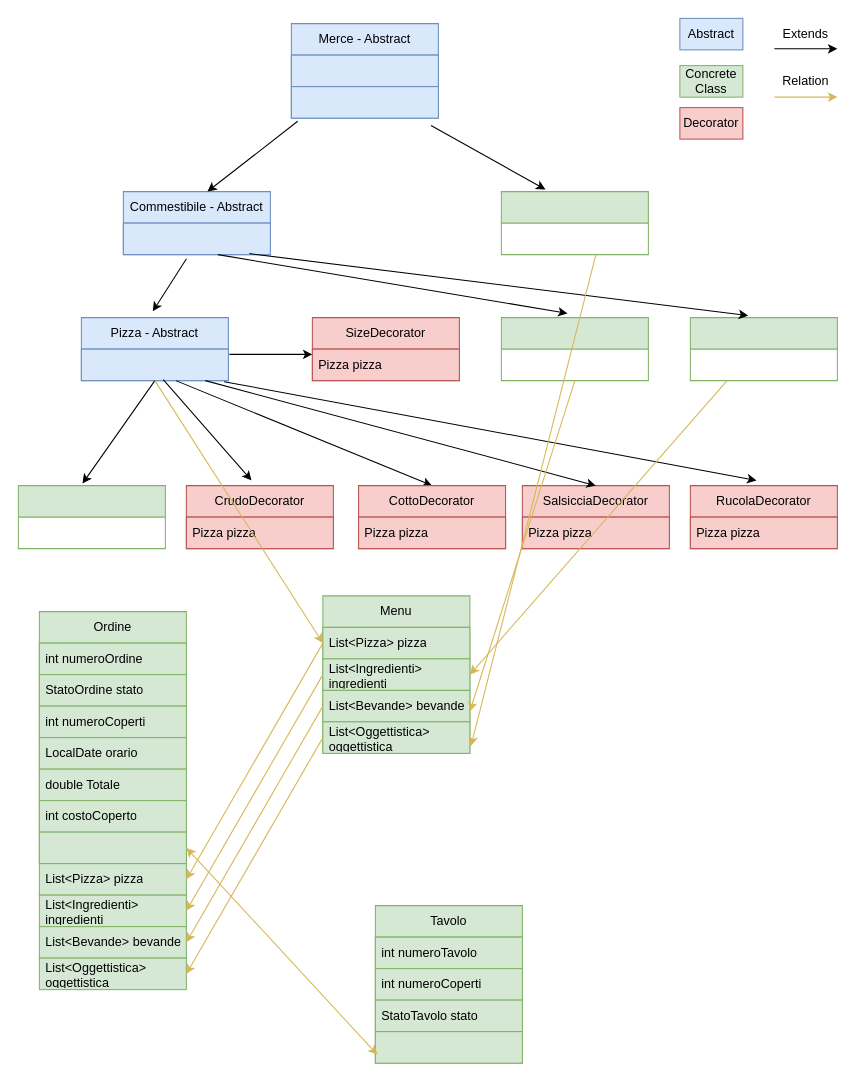
This 864x1083 diagram has some shape labels left out. The shapes that lost their labels are listed below. From the top down, each one's centre as x and y in pixels, then its label:
At pixel 364 70: "String name".
At pixel 364 102: "double price".
At pixel 196 238: "double calorie".
At pixel 574 223: "Oggettistica".
At pixel 574 349: "Bevande".
At pixel 763 349: "Ingredienti".
At pixel 91 517: "PizzaMargherita".
At pixel 112 847: "Tavolo tavolo".
At pixel 448 1047: "Ordine ordine".
